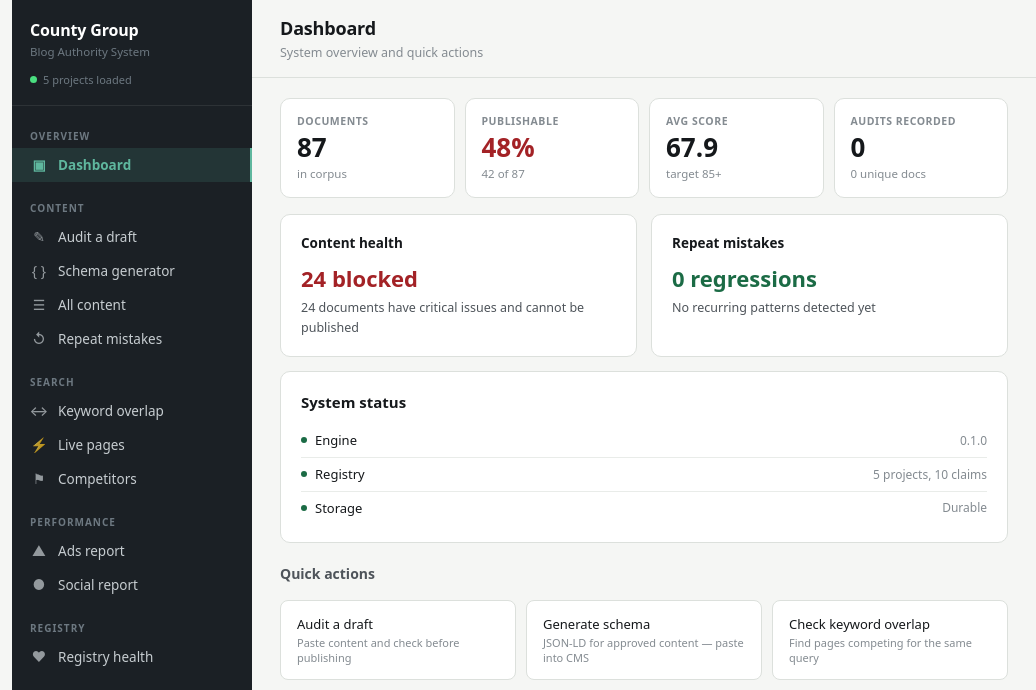
audit flow › disables the button until there is content
Click the tab "✎ Audit a draft" at point(132, 237), box [12,220,252,254]
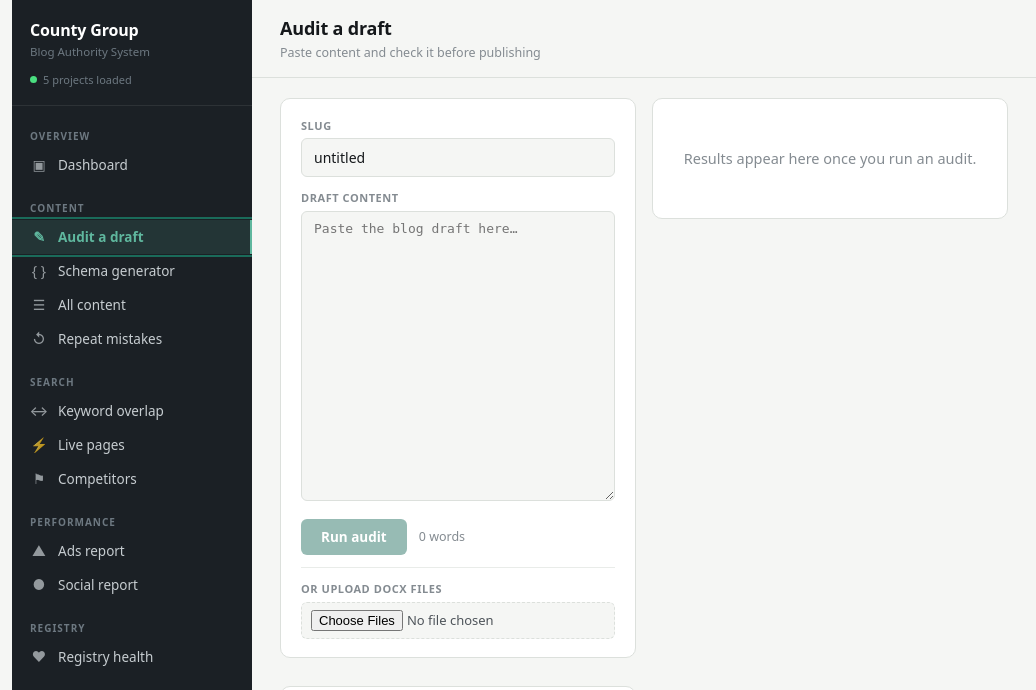
Now the button "Run audit" is disabled, box [301,519,407,555]
